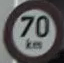Speed limit: (2, 5, 57, 55)
